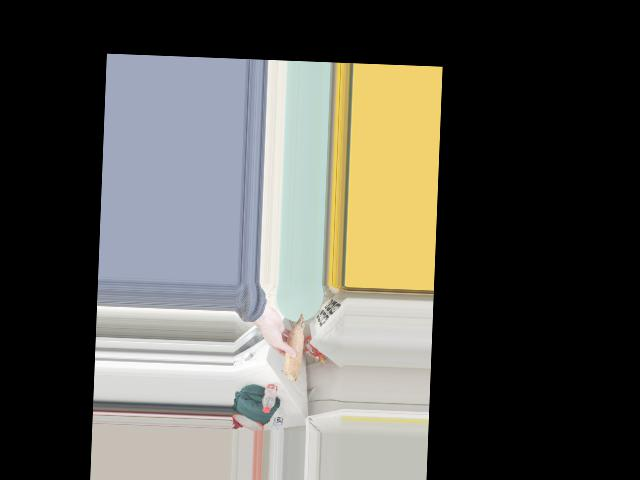sweet_potato: (279, 314, 309, 384)
